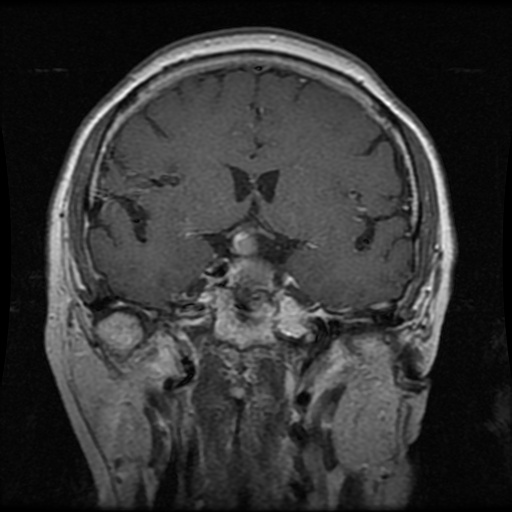pituitary: (229, 227, 271, 291)
